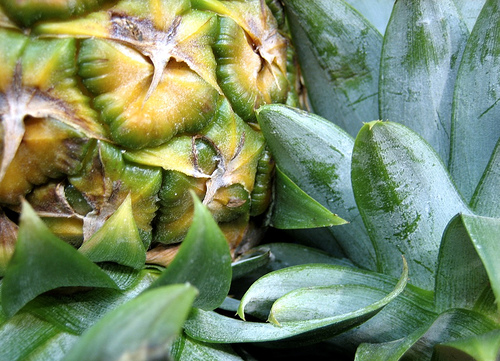pineapple: (0, 0, 301, 261)
